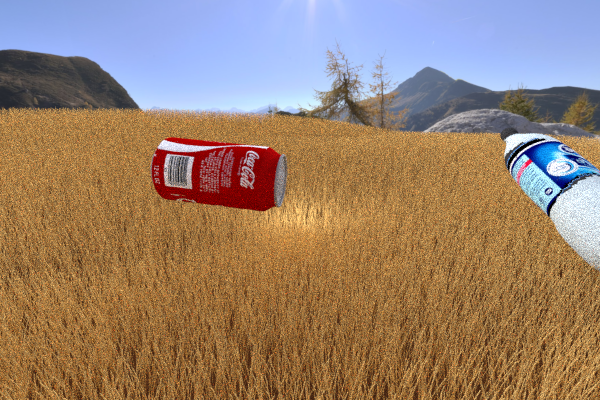bottle: (500, 127, 600, 284)
can: (150, 137, 287, 211)
